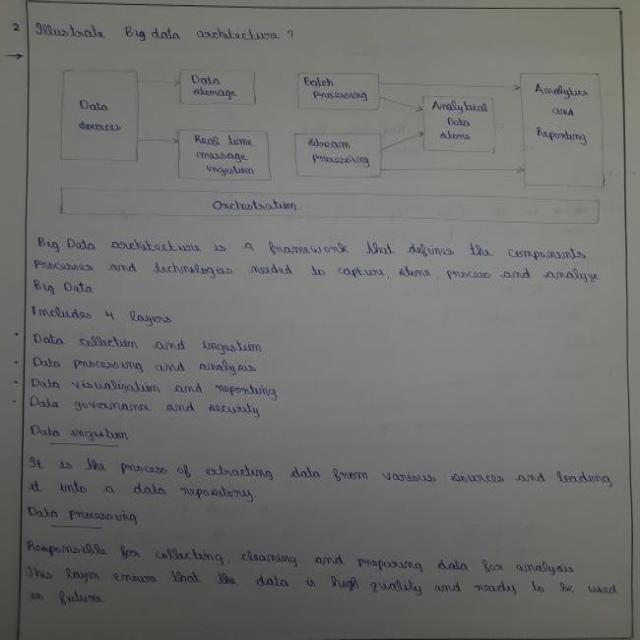Figure Detection - v3 Dataset Version2: (39, 49, 618, 234)
